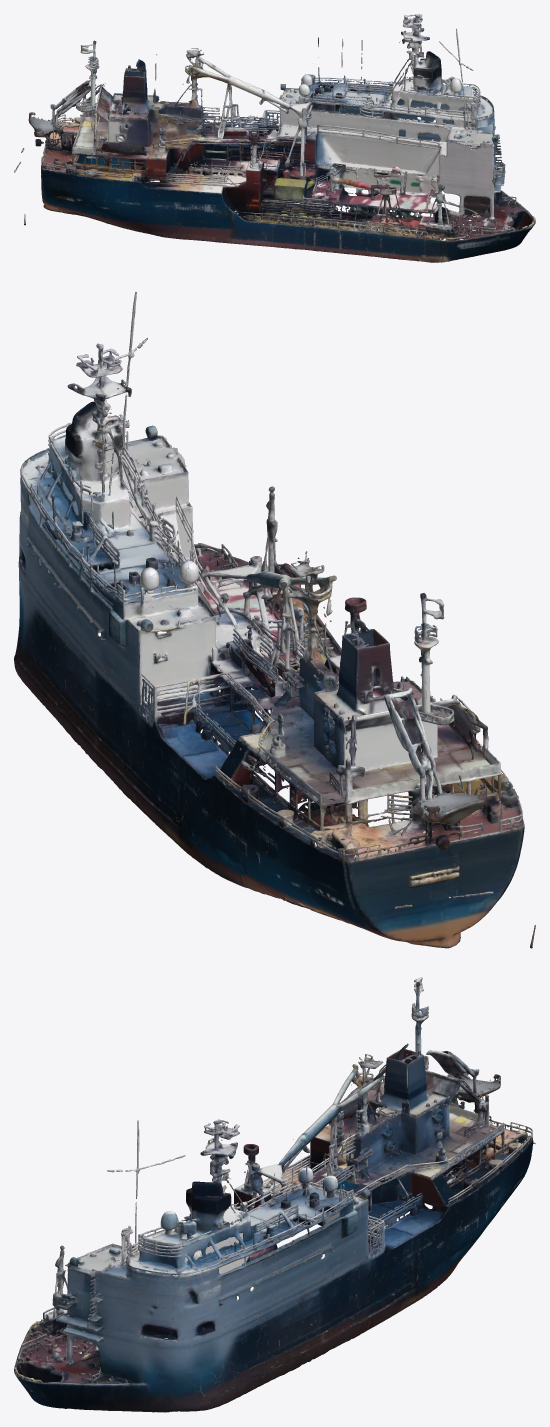
The model's file is P1-concat_2026-05-06T142910.967.glb.
3 renders of one model, top to bottom at view 1: azimuth 30°, elevation 25°; view 2: azimuth 150°, elevation 25°; view 3: azimuth 270°, elevation 25°, orthographic. The views are drawn at different scales.
Parts seen in each view (by area): view 1: world; view 2: world; view 3: world.
Part boxes in pixels (x1,y1,x2,y2): world: [14, 14, 535, 262]; world: [14, 291, 535, 948]; world: [14, 977, 535, 1412].
Bounding box in the file's own units: 1 × 0.5105 × 0.8982.
Materials: 1 (1 with a texture image).
